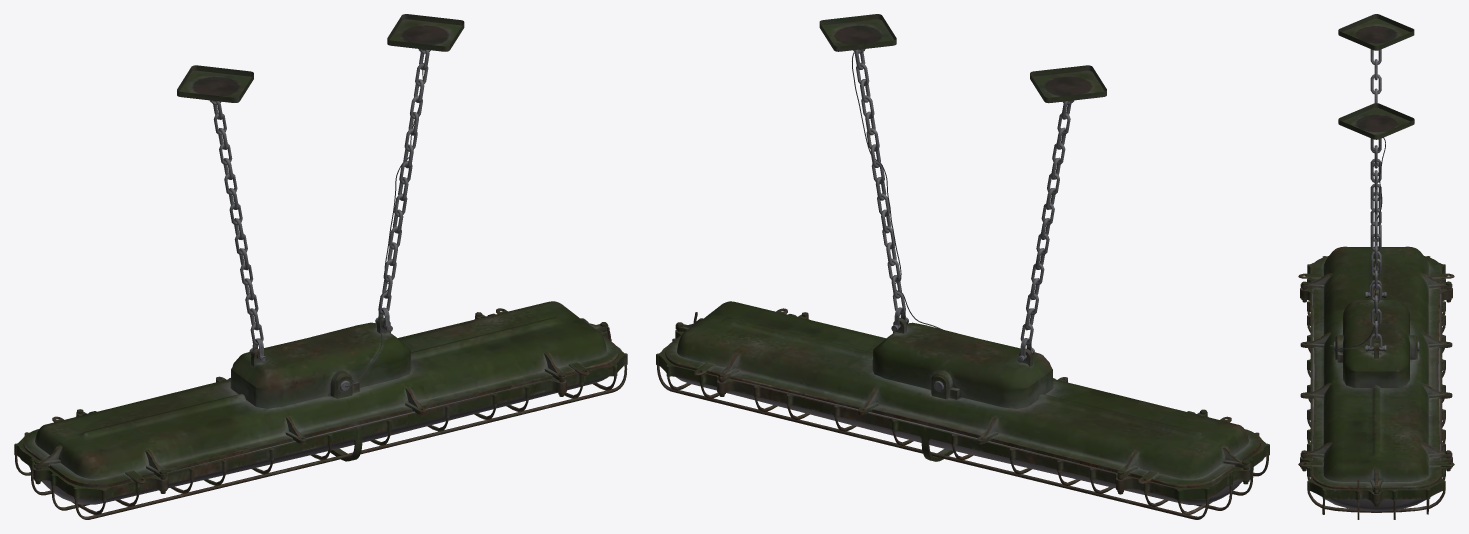
Rendered from caged_hanging_light.glb.
The picture shows the model from 3 angles, left to right: view 1: azimuth 30°, elevation 25°; view 2: azimuth 150°, elevation 25°; view 3: azimuth 270°, elevation 25°; orthographic projection. The views are drawn at different scales.
Visible parts, largest first — view 1: caged_hanging_light; view 2: caged_hanging_light; view 3: caged_hanging_light.
Boxes of the visible parts, left/top/right/bottom form: caged_hanging_light: left=14, top=14, right=627, bottom=519; caged_hanging_light: left=656, top=14, right=1269, bottom=519; caged_hanging_light: left=1298, top=14, right=1454, bottom=519.
Bounding box in the file's own units: 1.16 × 0.7501 × 0.3149.
Materials: 1 (1 with a texture image).
